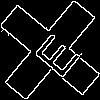E: (25, 25, 82, 80)
